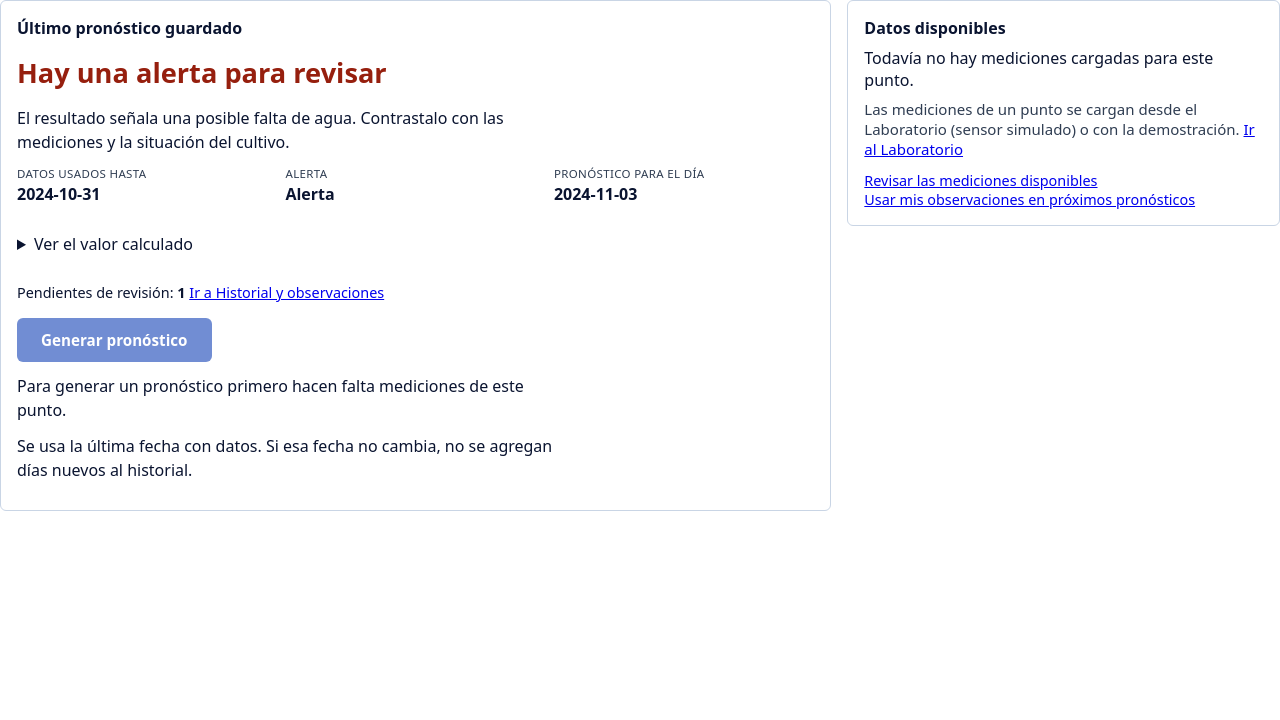
ResumenView › shows the row with the greatest fecha as the last registered forecast, with its dates distinguished
Expected: the text "2024-10-31" is shown, [17, 183, 100, 205]
Expected: the text "2024-11-03" is shown, [554, 183, 637, 205]
Step 1. Click the heading "Ver el valor calculado" → click(113, 244), box [34, 233, 193, 255]
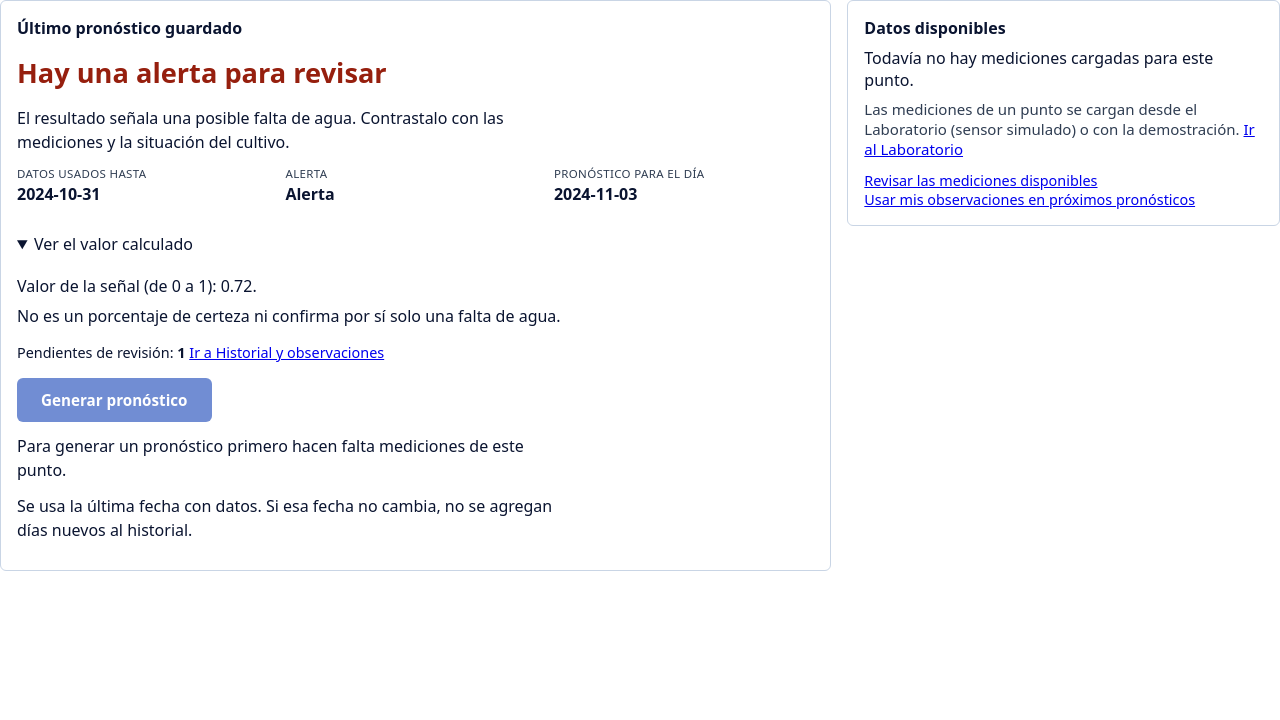
Result: the text "0.72" is shown at [221, 275, 252, 297]
Result: the text "No es un porcentaje de certeza" is shown at [17, 305, 561, 327]
